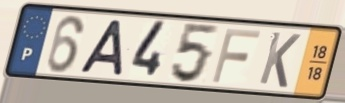4: (129, 18, 167, 83)
5: (169, 20, 223, 84)
6: (44, 13, 87, 75)
A: (76, 18, 125, 78)
F: (209, 26, 263, 85)
K: (256, 30, 303, 91)
